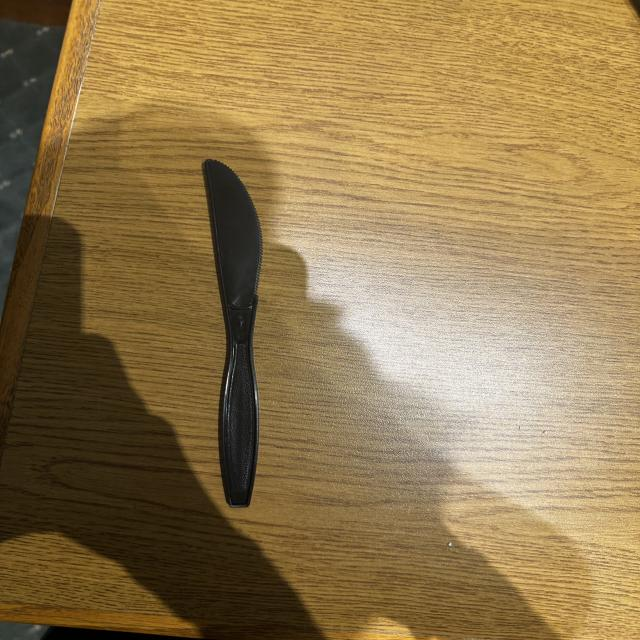knife: (176, 141, 326, 513)
